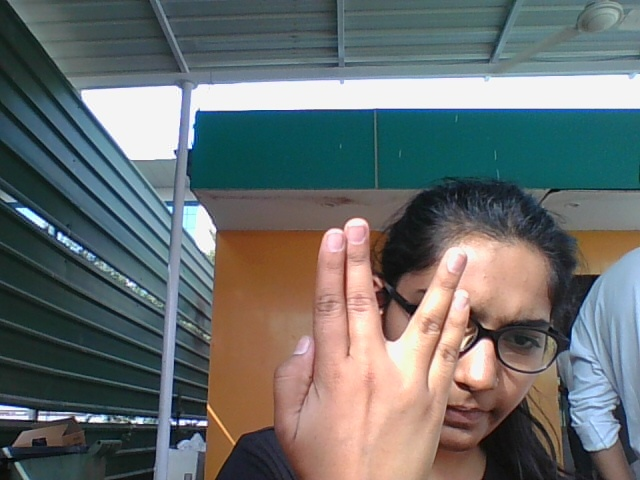livelong: (274, 216, 472, 480)
